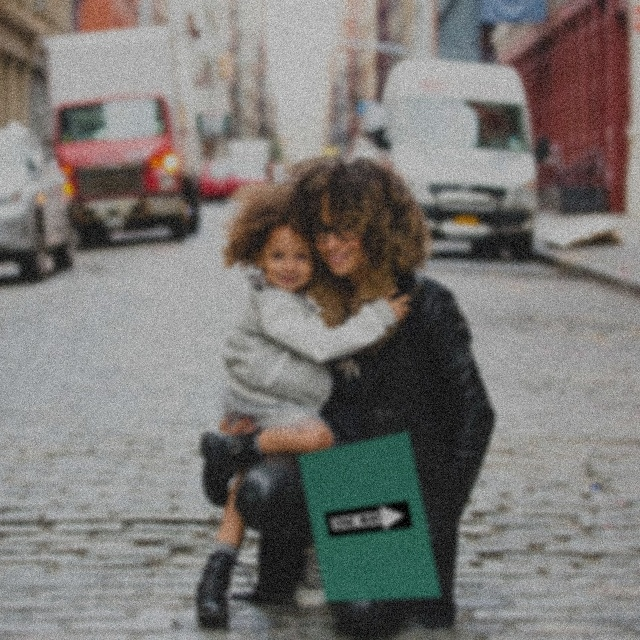ONE_WAY_ right: (324, 501, 413, 537)
